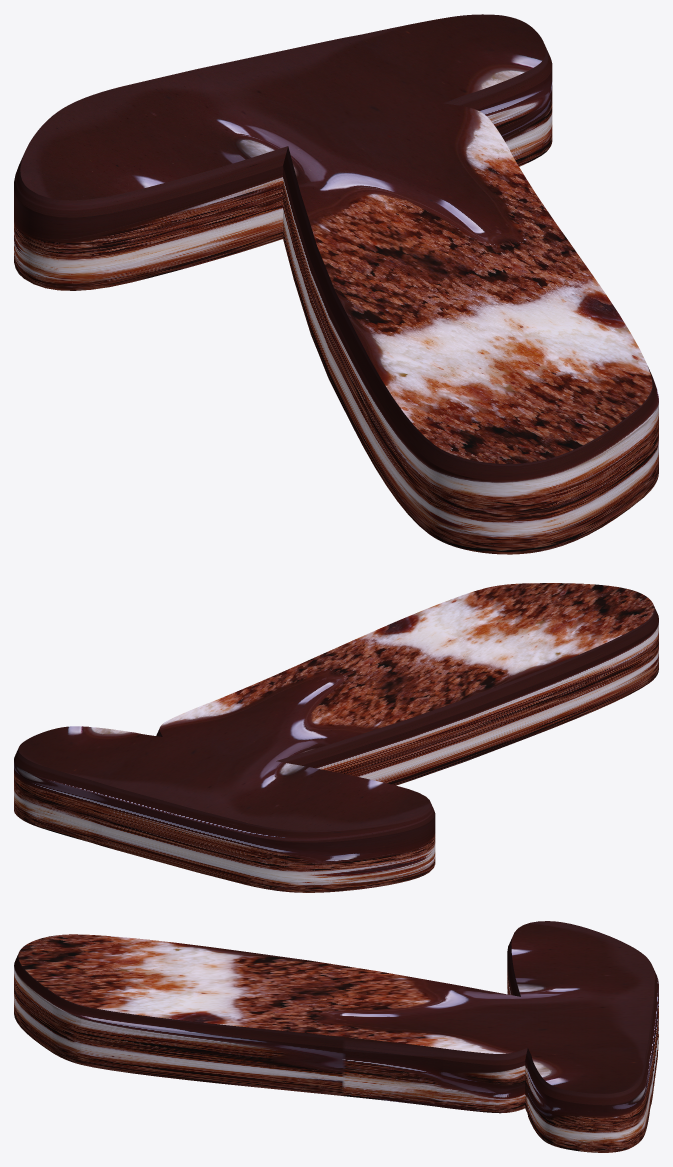
Rendered from myT.FBX.
3 renders of one model, top to bottom at view 1: azimuth 30°, elevation 25°; view 2: azimuth 150°, elevation 25°; view 3: azimuth 270°, elevation 25°, orthographic. The views are drawn at different scales.
Visible parts, largest first — view 1: myB; view 2: myB; view 3: myB.
Boxes of the visible parts, bbox=[...] form: myB: bbox=[14, 14, 658, 554]; myB: bbox=[14, 583, 658, 892]; myB: bbox=[14, 921, 658, 1152].
Size of the model in its own units: 39.6 by 6 by 61.2.
1 material, 1 textured.
